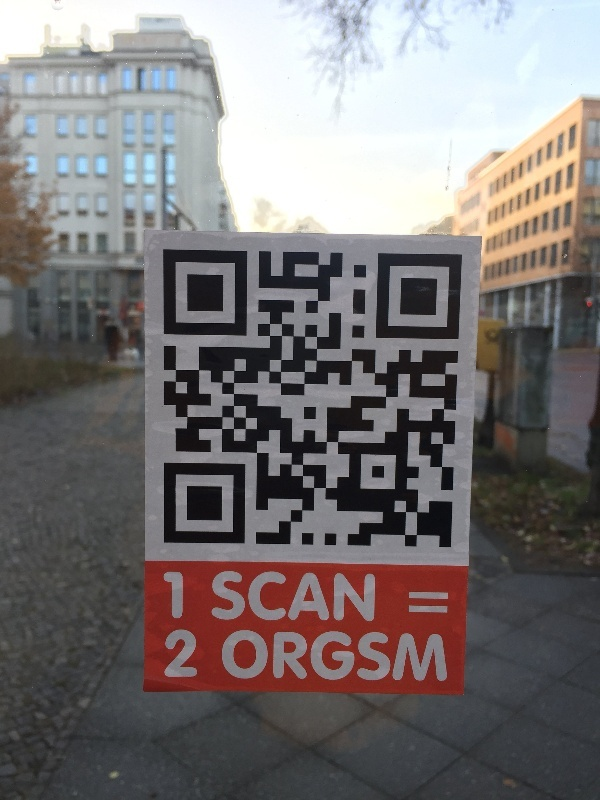text: (433, 630, 449, 682), (225, 571, 240, 623), (241, 571, 256, 623), (257, 571, 272, 623), (273, 571, 288, 623), (289, 571, 304, 623), (305, 571, 320, 623), (321, 571, 336, 623), (337, 571, 352, 623), (353, 571, 368, 623), (241, 630, 256, 682), (257, 630, 272, 682), (273, 630, 288, 682), (289, 630, 304, 682), (305, 630, 320, 682), (321, 630, 336, 682), (337, 630, 352, 682), (353, 630, 368, 682), (369, 630, 384, 682), (385, 630, 400, 682), (401, 630, 416, 682), (417, 630, 432, 682), (177, 630, 192, 679), (226, 630, 240, 682), (164, 572, 176, 620), (213, 571, 224, 623), (165, 630, 176, 679), (417, 586, 432, 620), (433, 586, 448, 620), (369, 571, 376, 623), (177, 572, 184, 620), (407, 586, 416, 620), (193, 630, 198, 679), (449, 586, 453, 620)
